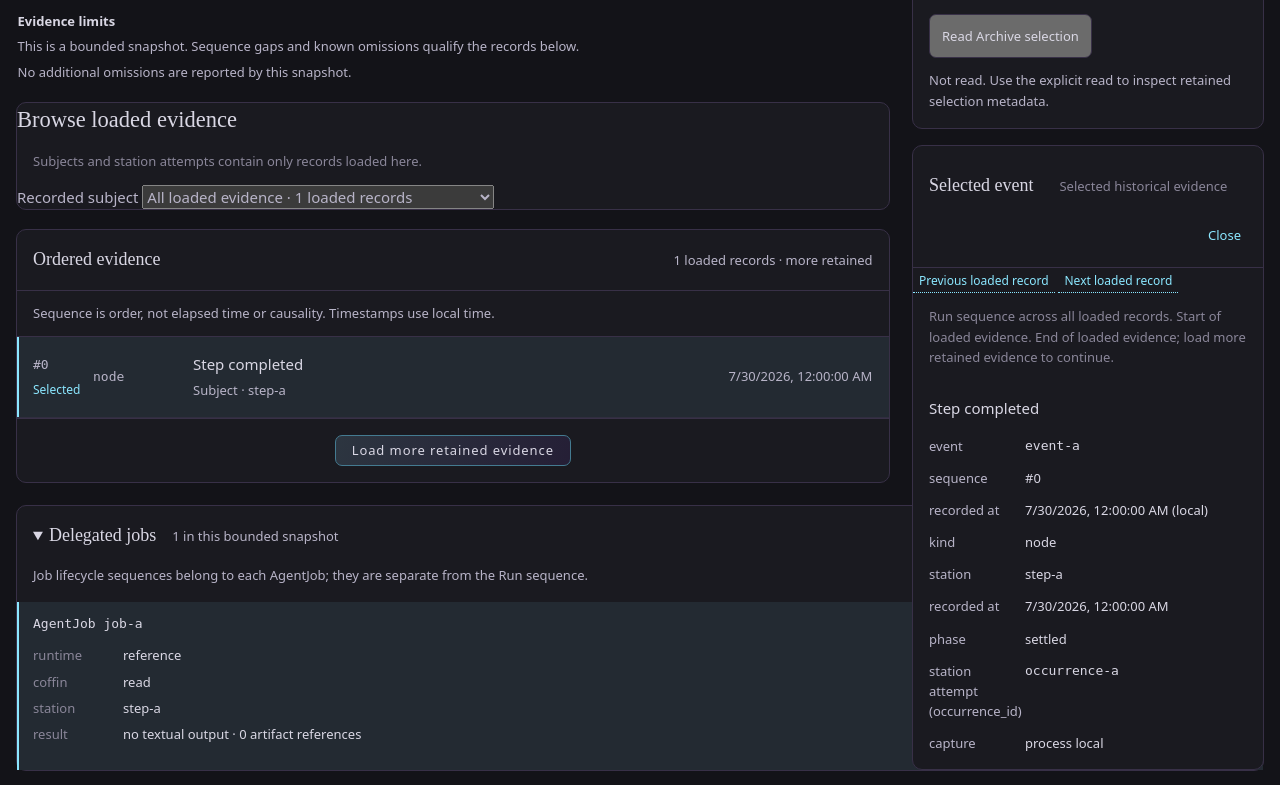
it: Orb evidence focus › keeps focus when pagination replaces and then restores the same linked job
(page scrolled)
Click the button "Load more retained evidence" at (453, 450), box [335, 435, 571, 466]
(page scrolled)
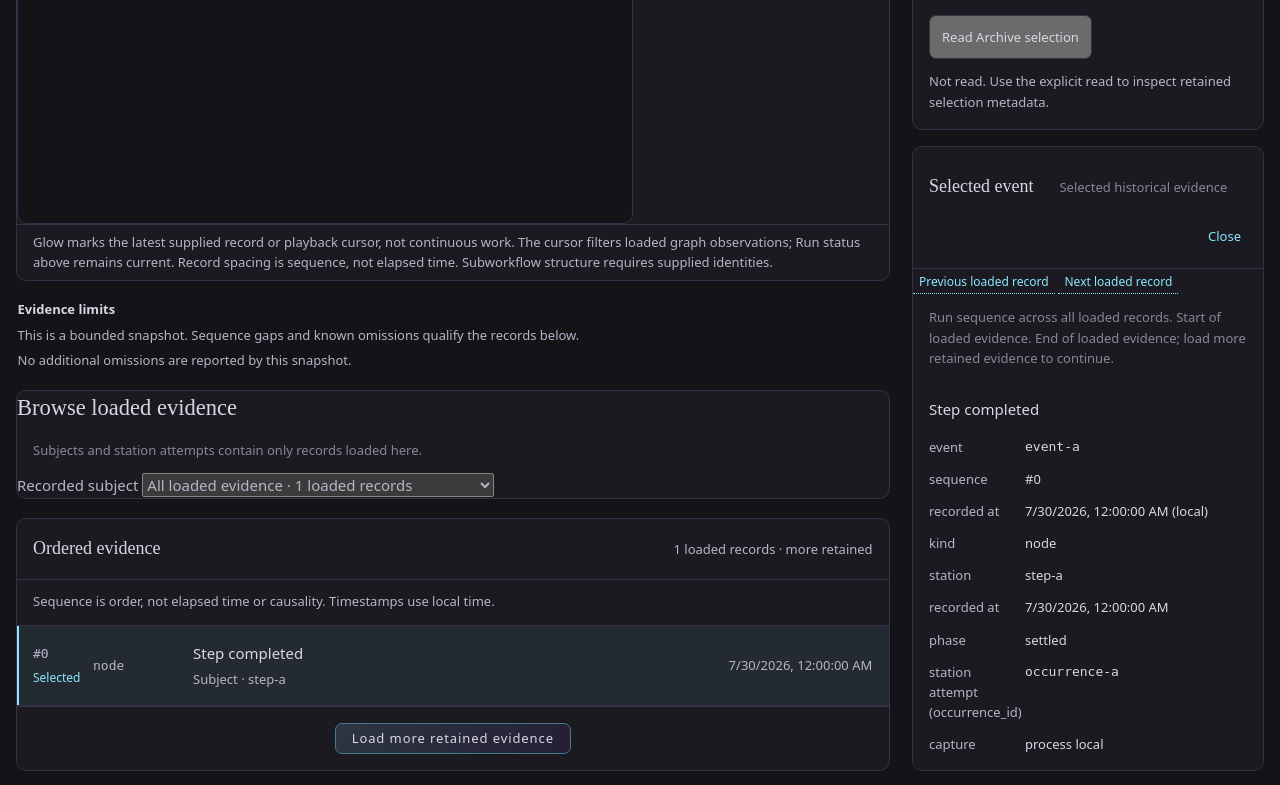
Click the button "Load more retained evidence" at (453, 739), box [335, 723, 571, 754]
(page scrolled)
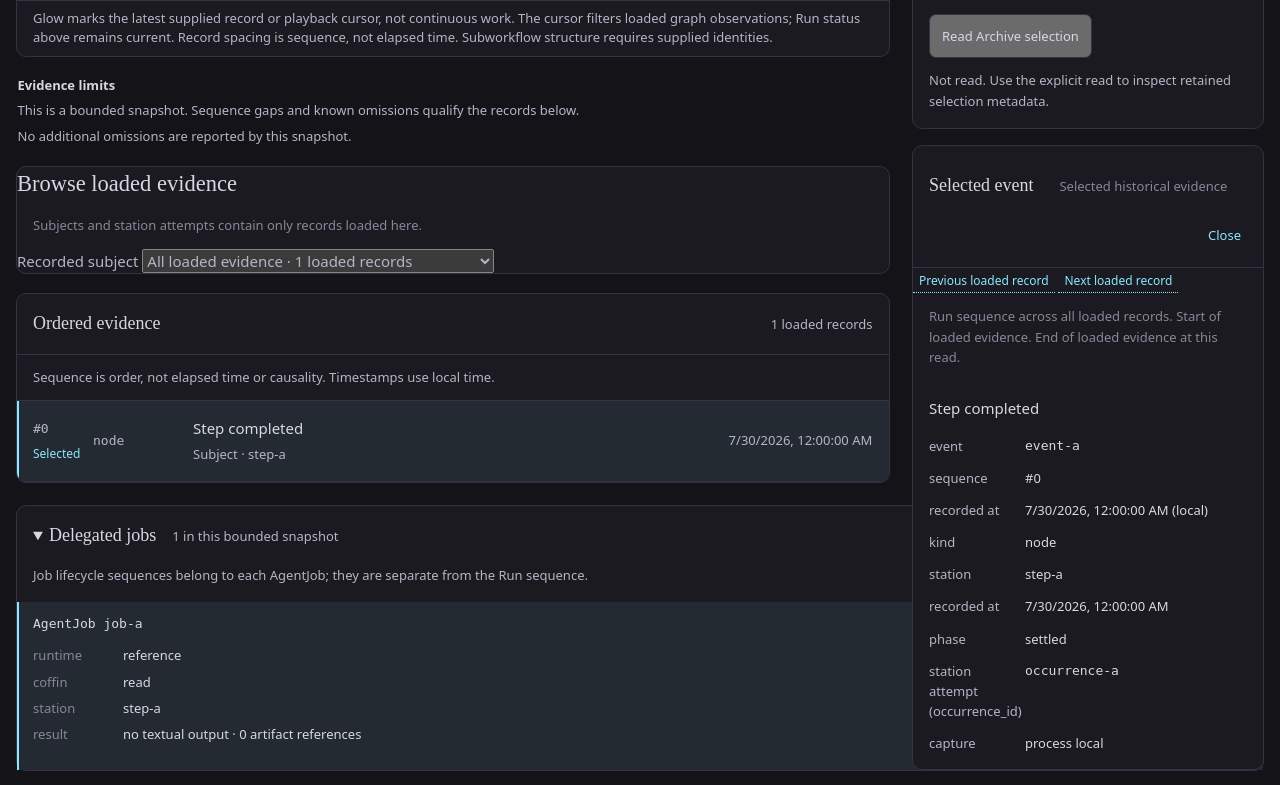
Now the list item with id "delegated-job-job-a" is shown, box [17, 602, 1263, 770]
